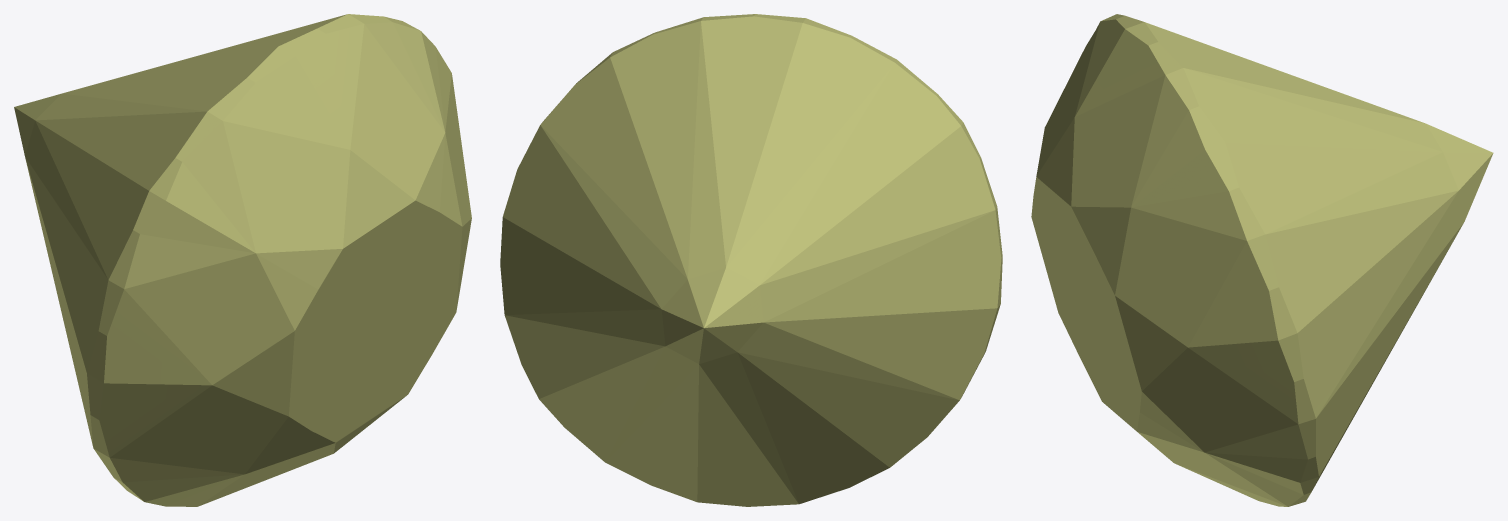
File: BR2_8shapes_Round_Classic_Stone.001 2.glb
3 views of the same model, side by side, from view 1: azimuth 30°, elevation 25°; view 2: azimuth 150°, elevation 25°; view 3: azimuth 270°, elevation 25° (orthographic). The views are drawn at different scales.
Visible parts, largest first — view 1: BR2_8shapes_Round_Classic_Stone.001; view 2: BR2_8shapes_Round_Classic_Stone.001; view 3: BR2_8shapes_Round_Classic_Stone.001.
Part boxes in pixels (x1,y1,x2,y2): BR2_8shapes_Round_Classic_Stone.001: (14,14,471,506); BR2_8shapes_Round_Classic_Stone.001: (500,14,1002,506); BR2_8shapes_Round_Classic_Stone.001: (1031,14,1493,506).
Size of the model in its own units: 0.4356 by 0.447 by 0.4089.
